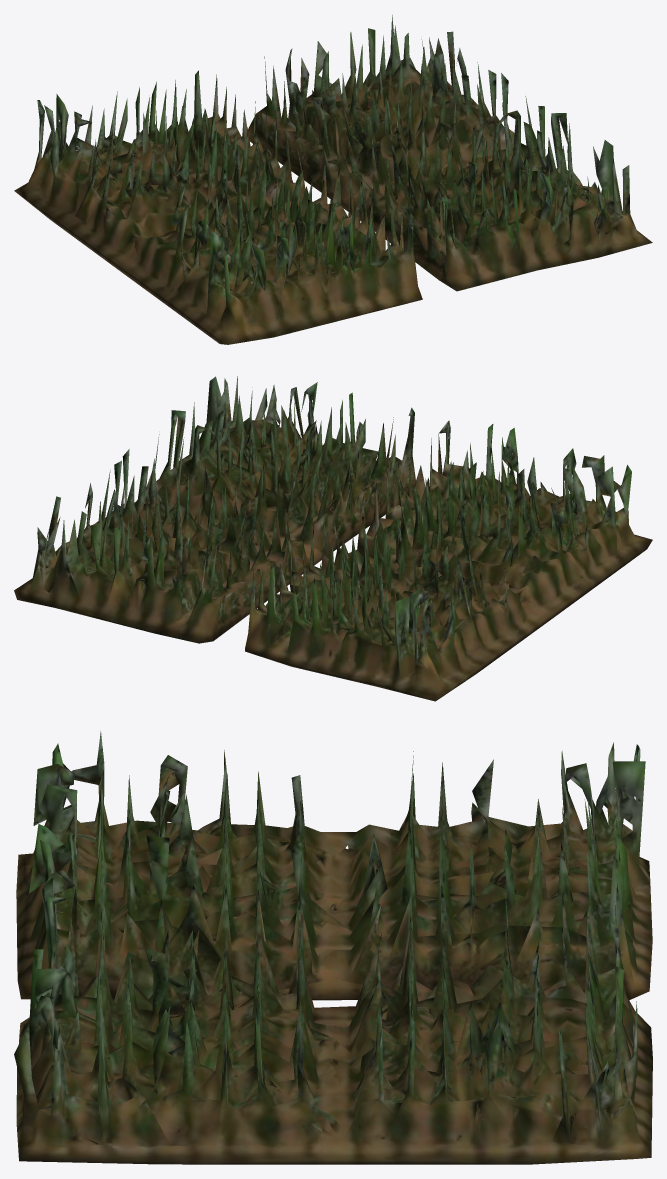
Rendered from 40ac6c042cf0_557ec607b4ee_a_farm_plot_with_lo.glb.
The picture shows the model from 3 angles, top to bottom: view 1: azimuth 30°, elevation 25°; view 2: azimuth 150°, elevation 25°; view 3: azimuth 270°, elevation 25°; orthographic projection. The views are drawn at different scales.
Parts seen in each view (by area): view 1: mesh; view 2: mesh; view 3: mesh.
Part boxes in pixels (<box>): mesh: <box>14,15,652,344</box>; mesh: <box>14,376,652,701</box>; mesh: <box>14,731,652,1164</box>.
Bounding box in the file's own units: 0.9967 × 0.2109 × 0.8797.
1 material, 1 textured.
